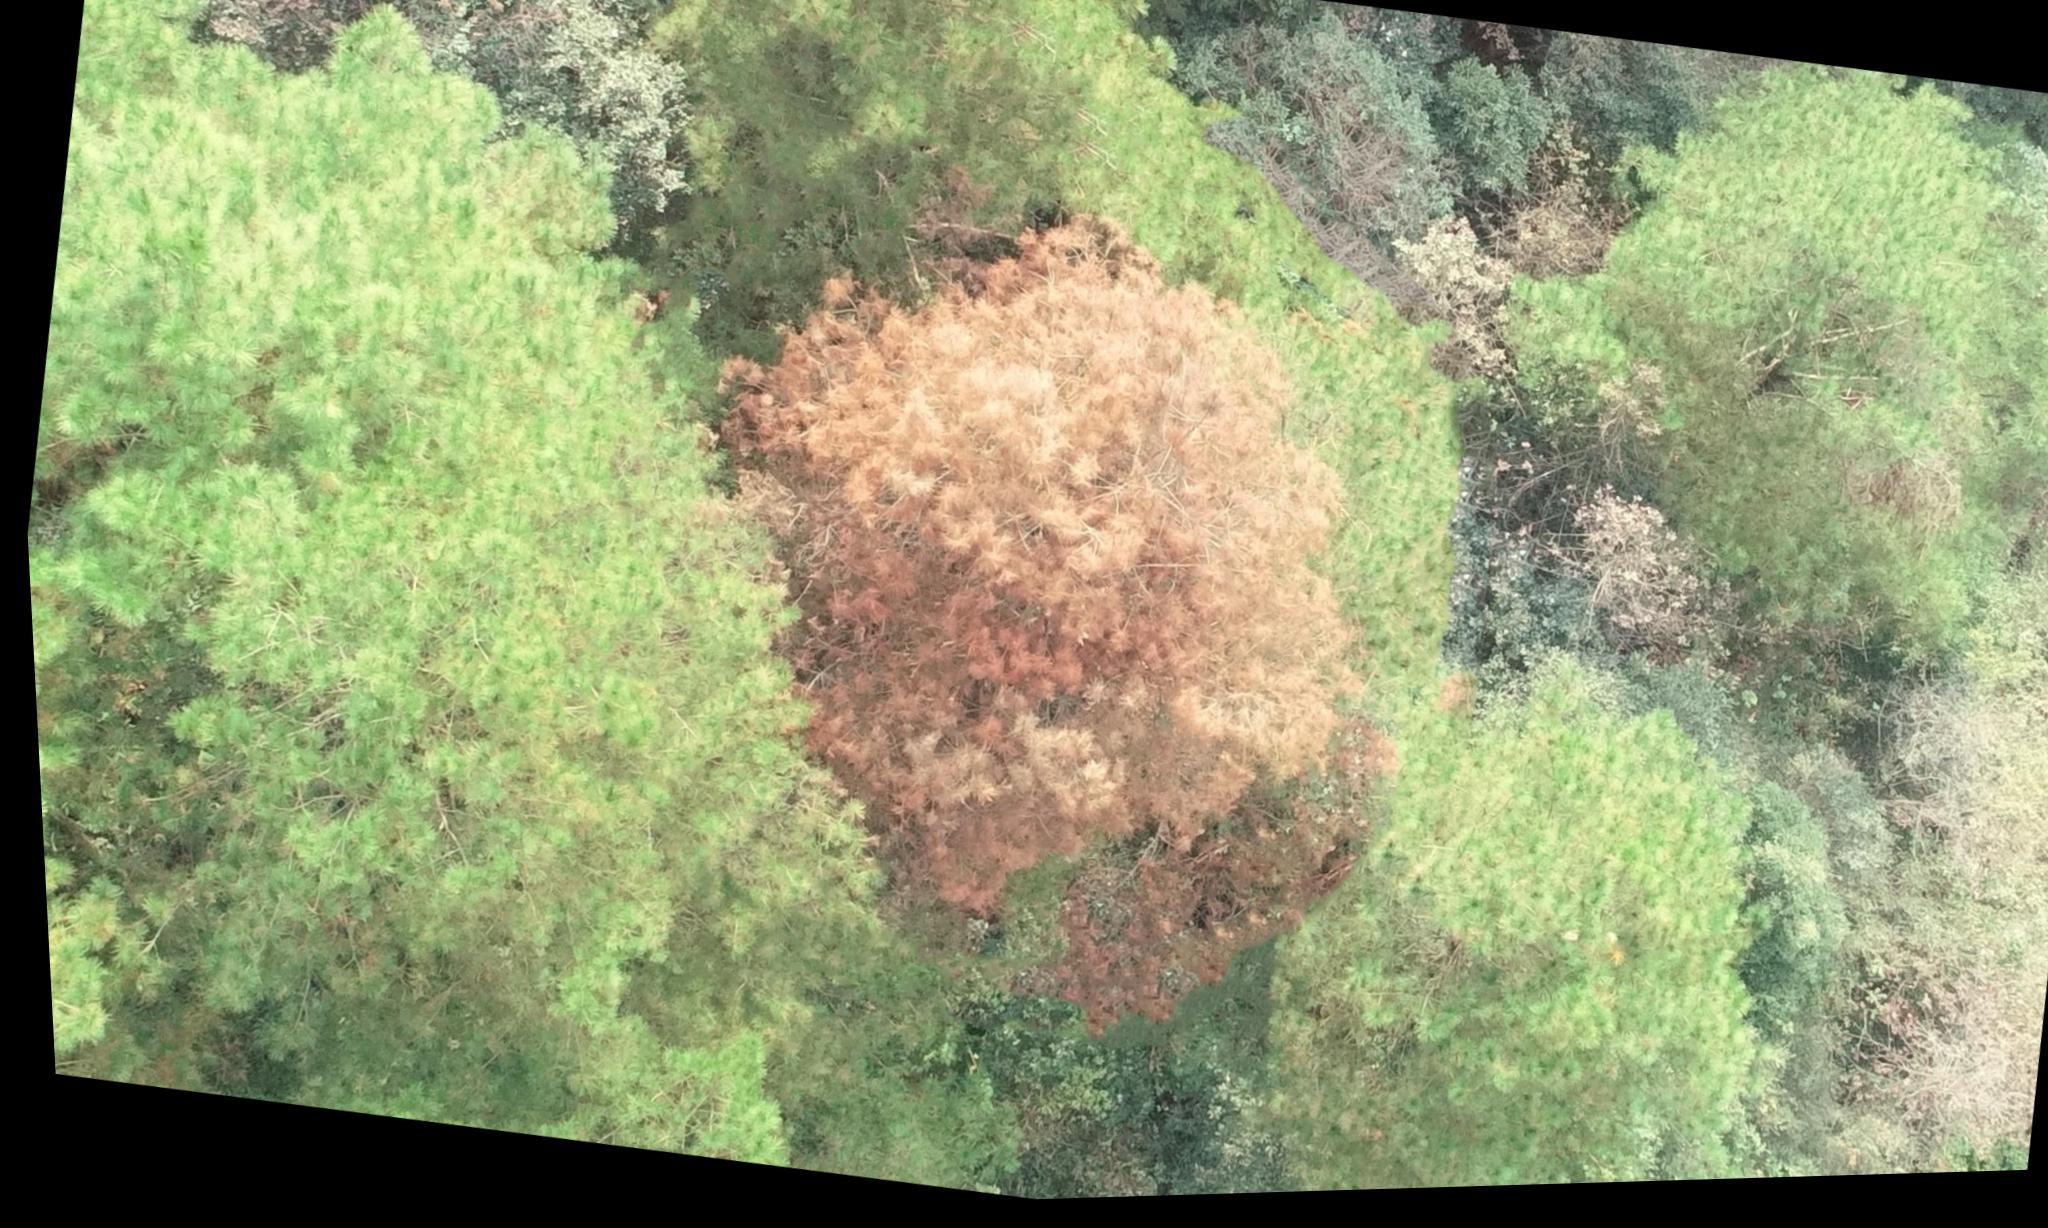heavy: (586, 148, 1465, 1067)
